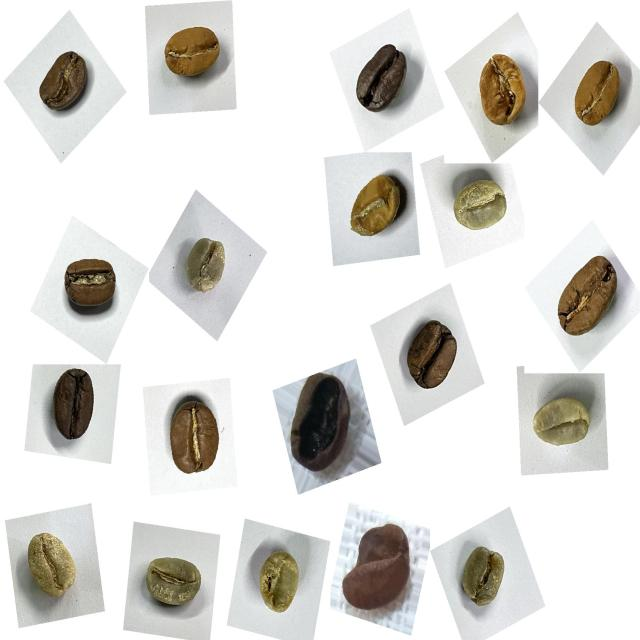bad: (281, 363, 365, 481), (332, 512, 420, 623)
dark: (340, 33, 416, 124), (42, 363, 107, 453)
green: (14, 522, 95, 614), (524, 381, 598, 468), (135, 541, 210, 622), (244, 538, 310, 628), (444, 170, 516, 248), (452, 534, 517, 618), (178, 227, 237, 307)
light: (465, 39, 538, 137), (337, 161, 412, 252), (560, 46, 632, 138), (154, 13, 230, 96)
medium: (544, 242, 630, 351), (156, 393, 234, 486), (396, 312, 468, 402), (55, 244, 128, 326), (33, 41, 99, 124)
